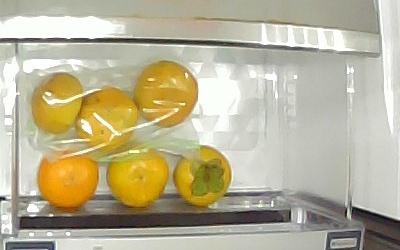persimmon: (107, 148, 169, 208), (37, 150, 100, 209), (173, 146, 231, 206)
persimmon_vinyl: (134, 61, 199, 129), (76, 86, 138, 152), (32, 72, 84, 134)
